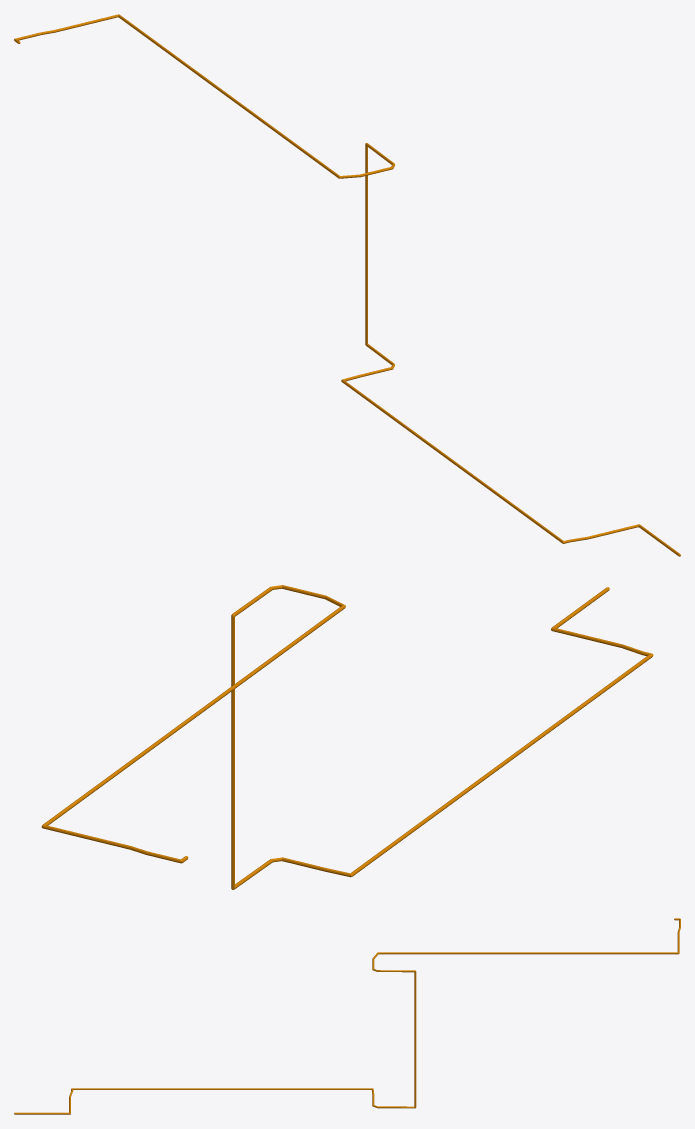
3 renders of one model, top to bottom at view 1: azimuth 30°, elevation 25°; view 2: azimuth 150°, elevation 25°; view 3: azimuth 270°, elevation 25°, orthographic. The views are drawn at different scales.
Bounding box in the file's own units: 1395 × 1520 × 6658.
